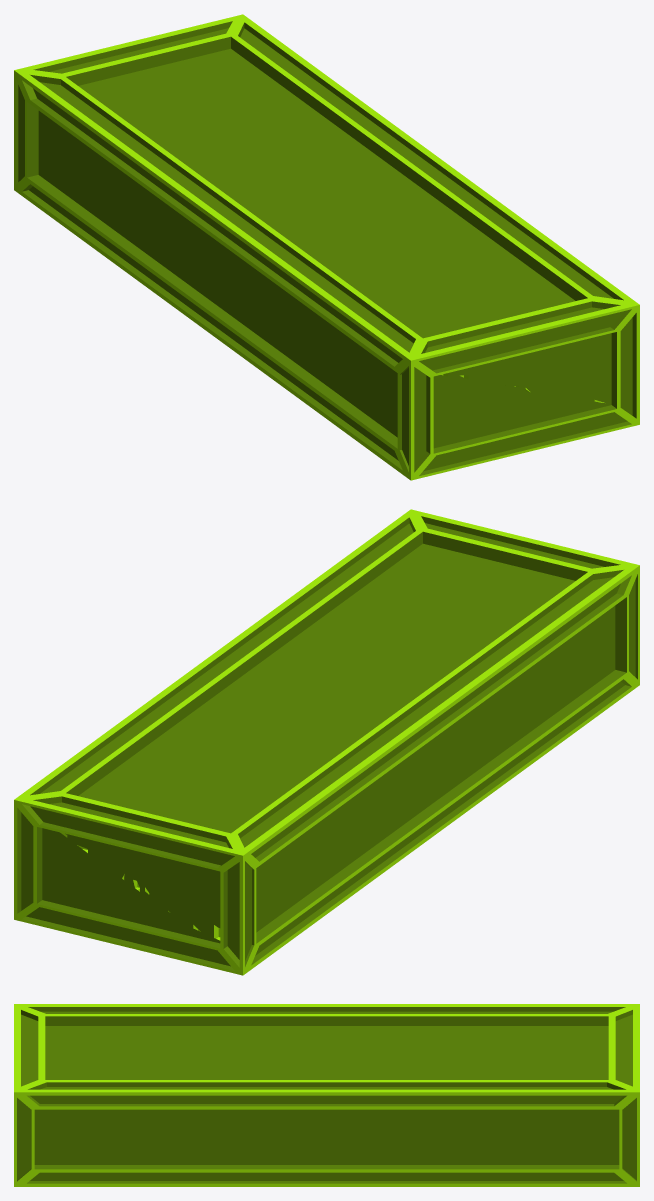
File: JengaPiece.fbx
3 views of the same model, one above another, from view 1: azimuth 30°, elevation 25°; view 2: azimuth 150°, elevation 25°; view 3: azimuth 270°, elevation 25° (orthographic). The views are drawn at different scales.
Visible parts, largest first — view 1: BoxShadow; view 2: BoxShadow; view 3: BoxShadow.
Part boxes in pixels (x1,y1,x2,y2): BoxShadow: [14, 14, 639, 480]; BoxShadow: [14, 509, 639, 975]; BoxShadow: [14, 1004, 639, 1186].
Bounding box in the file's own units: 100 × 50 × 300.
